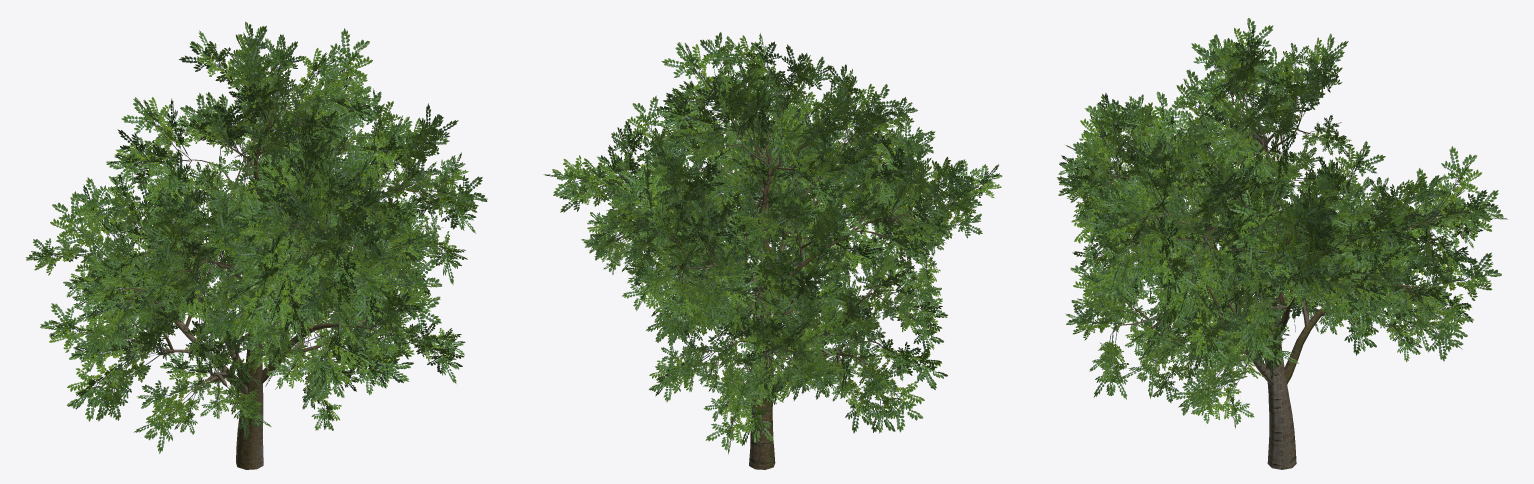
File: tree_oak_large.glb
3 renders of one model, left to right at view 1: azimuth 30°, elevation 25°; view 2: azimuth 150°, elevation 25°; view 3: azimuth 270°, elevation 25°, orthographic. The views are drawn at different scales.
Parts seen in each view (by area): view 1: Tree EZTree0.Large; view 2: Tree EZTree0.Large; view 3: Tree EZTree0.Large.
Part boxes in pixels (x1=…): Tree EZTree0.Large: x1=26, y1=21, x2=487, y2=469; Tree EZTree0.Large: x1=543, y1=32, x2=1002, y2=469; Tree EZTree0.Large: x1=1057, y1=18, x2=1507, y2=469.
Size of the model in its own units: 7.81 by 8.2 by 7.85.
Materials: 2 (2 with a texture image).
